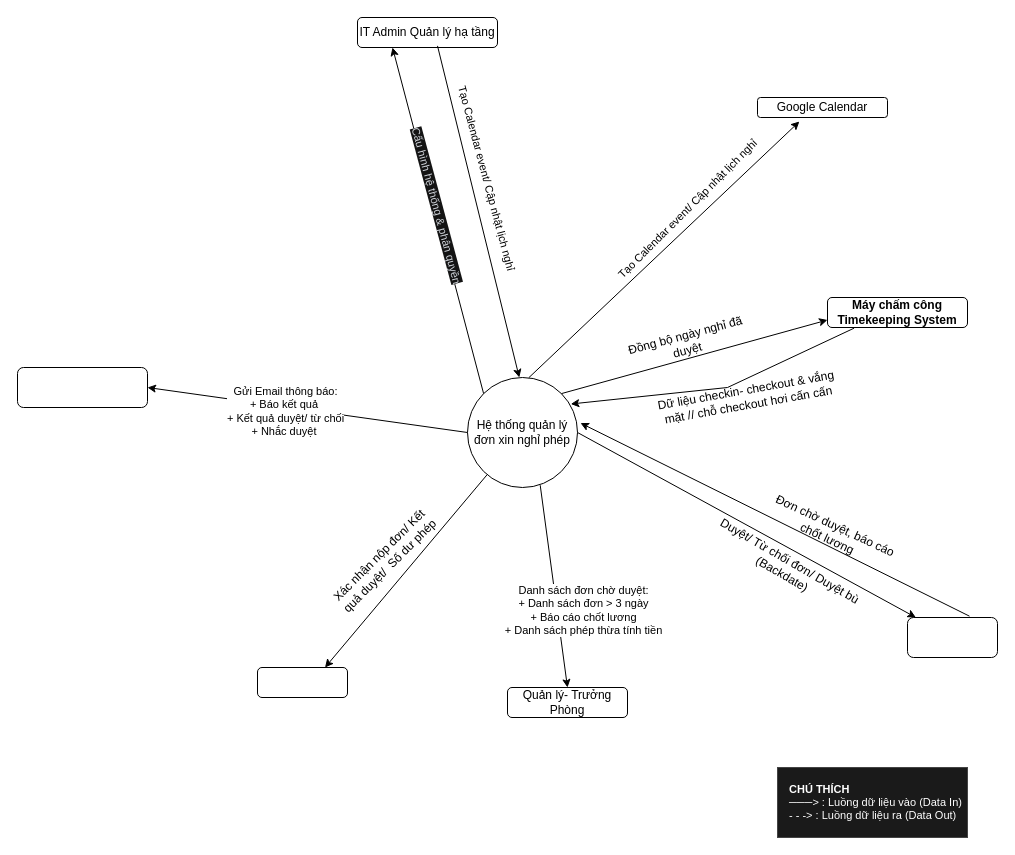
The diagram is 1015 pixels wide and 855 high, and some of its shapes have lost their labels. Each missing label, with the box of its shape:
Email và Notification Gateway gửi Email/ Thông báo tự động: (16, 366, 148, 408)
Nhân viên/ Leader: (256, 666, 348, 698)
Phòng HR / (HR Manager): (906, 616, 998, 658)
